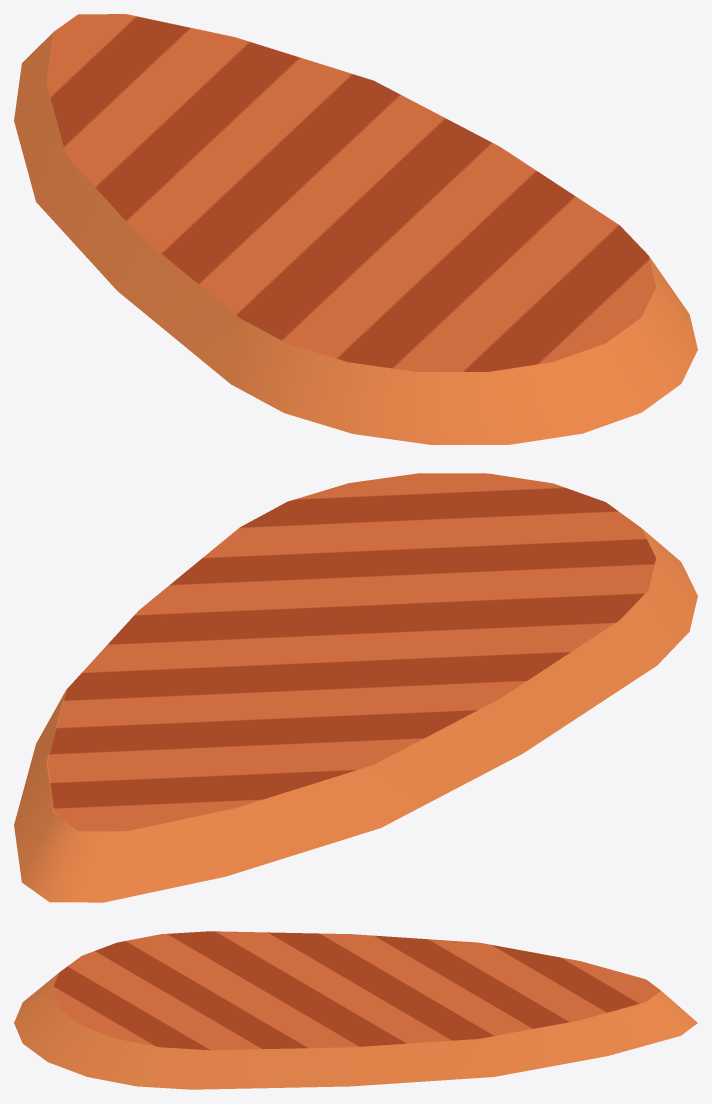
File: Chicken_Slice_Chicken_0.glb
The picture shows the model from 3 angles, top to bottom: view 1: azimuth 30°, elevation 25°; view 2: azimuth 150°, elevation 25°; view 3: azimuth 270°, elevation 25°; orthographic projection. The views are drawn at different scales.
Visible parts, largest first — view 1: Chicken_Slice_Chicken_0; view 2: Chicken_Slice_Chicken_0; view 3: Chicken_Slice_Chicken_0.
Boxes of the visible parts, <box> form: Chicken_Slice_Chicken_0: <box>14,14,697,444</box>; Chicken_Slice_Chicken_0: <box>14,473,697,902</box>; Chicken_Slice_Chicken_0: <box>14,931,697,1089</box>.
Size of the model in its own units: 0.0889 by 0.01 by 0.1924.
1 material, 1 textured.
